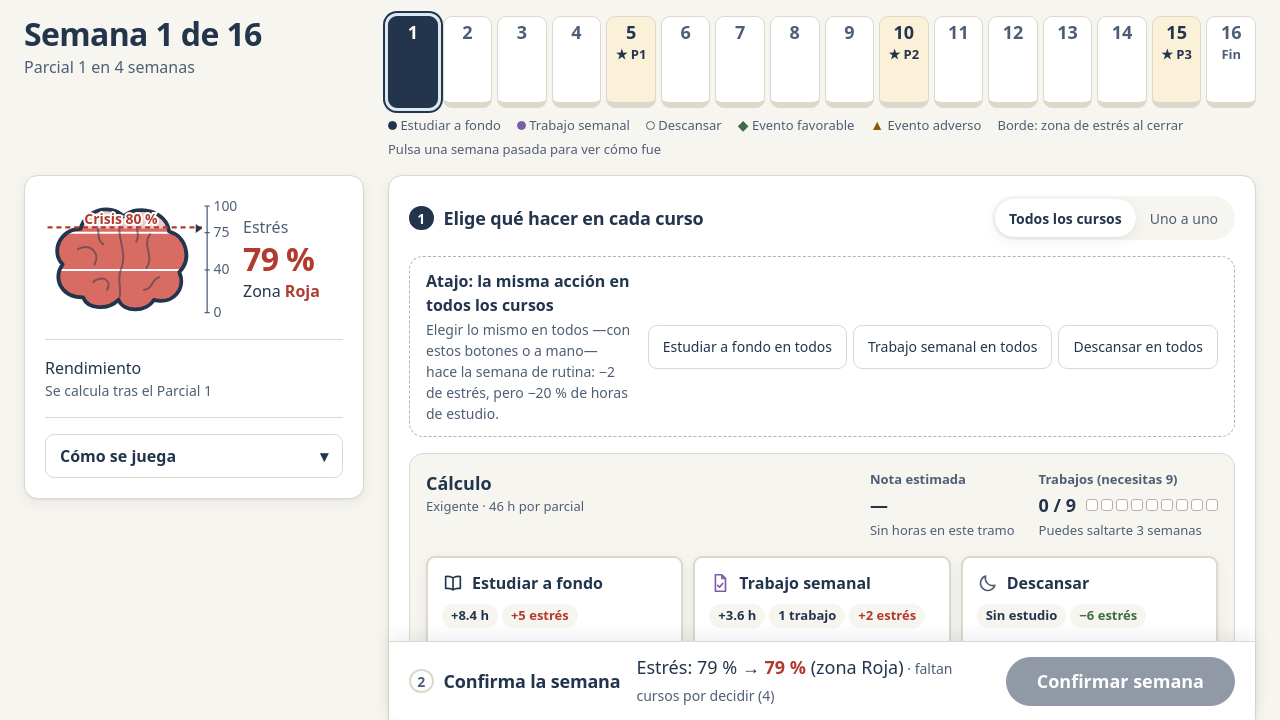
Test: interfaz › la crisis abre un modal que bloquea las decisiones
Click the button "Trabajo semanal en todos" at (953, 346), box [853,324,1052,368]
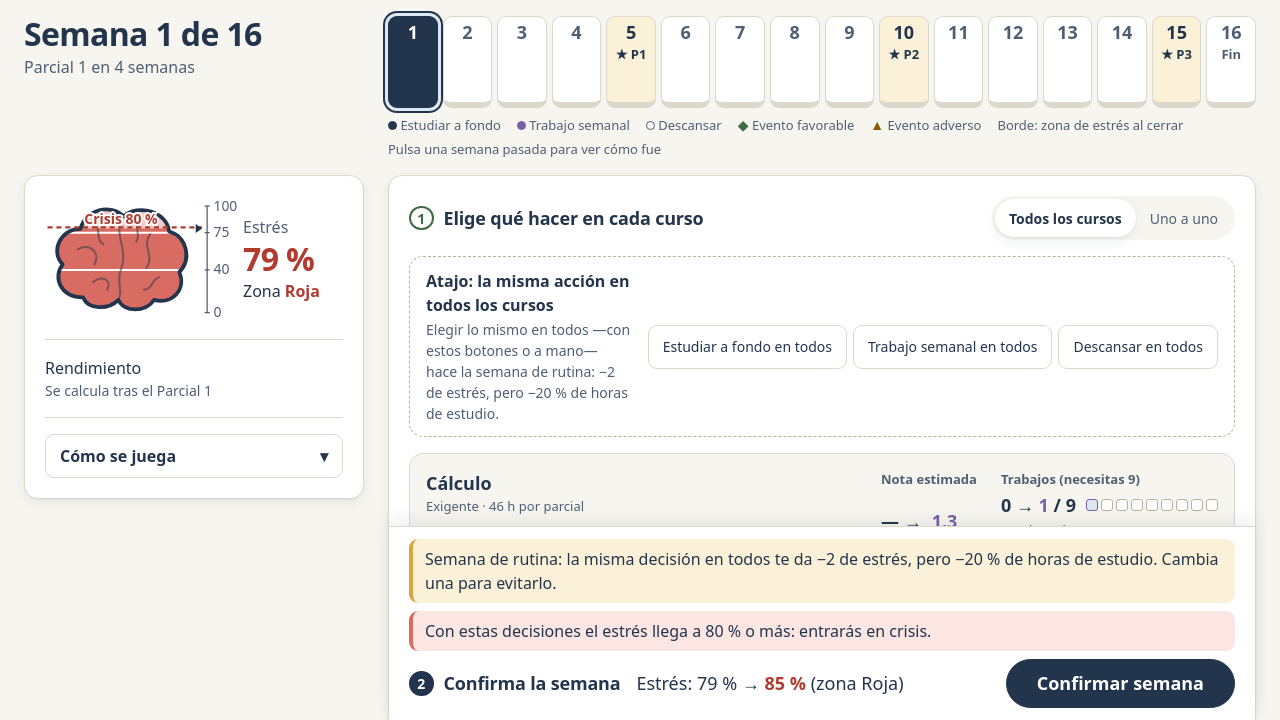
Click the button "Confirmar semana" at (1120, 684), box [1006,659,1235,708]
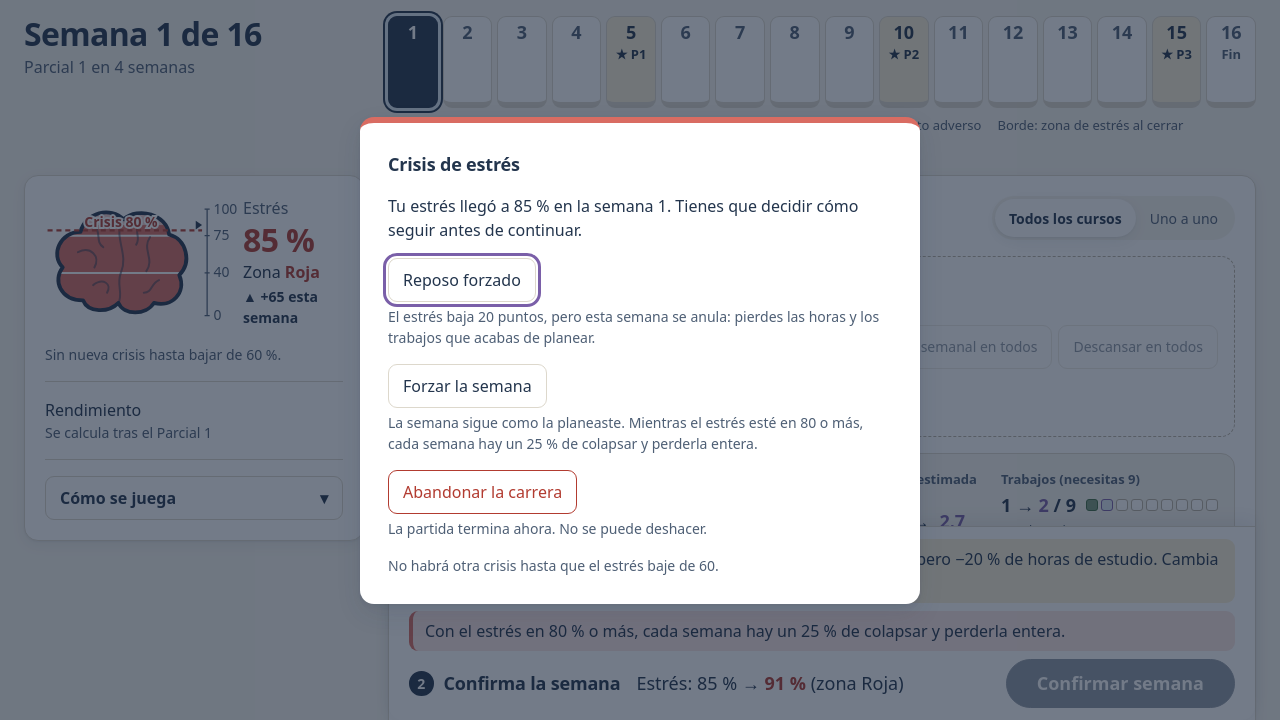
Now the dialog "Crisis de estrés" is shown, box [360,116,920,604]
Now the button "Confirmar semana" is disabled, box [1006,659,1235,708]
Now the button "Descansar en todos" is disabled, box [1058,324,1218,368]
Click the button "Forzar la semana" at (467, 386), box [388,364,547,408]
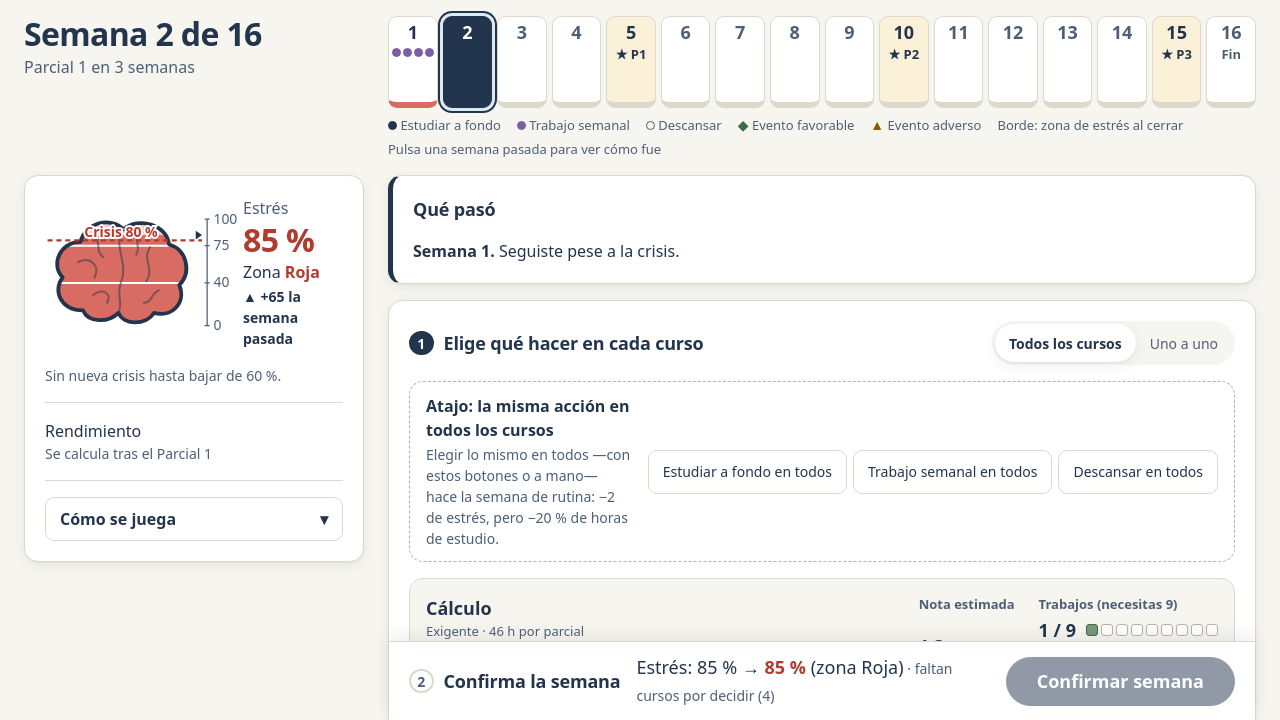
Now the dialog is gone
